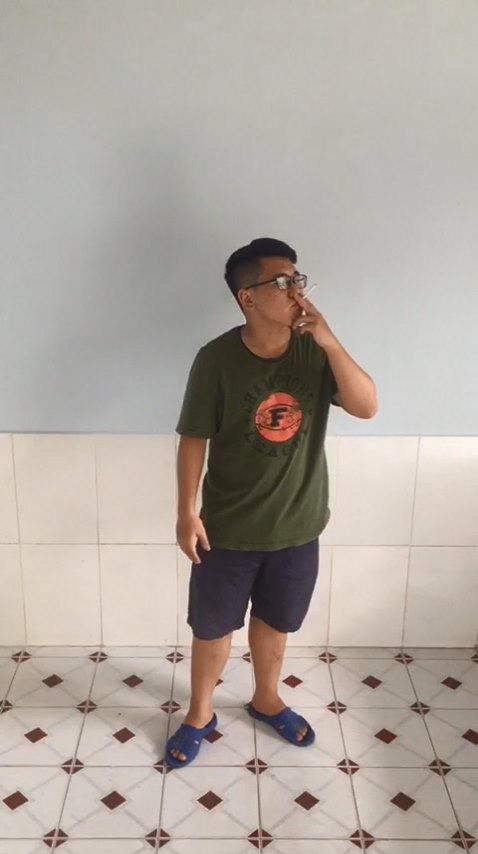cigarette: (301, 281, 320, 302)
person: (155, 223, 393, 790)
